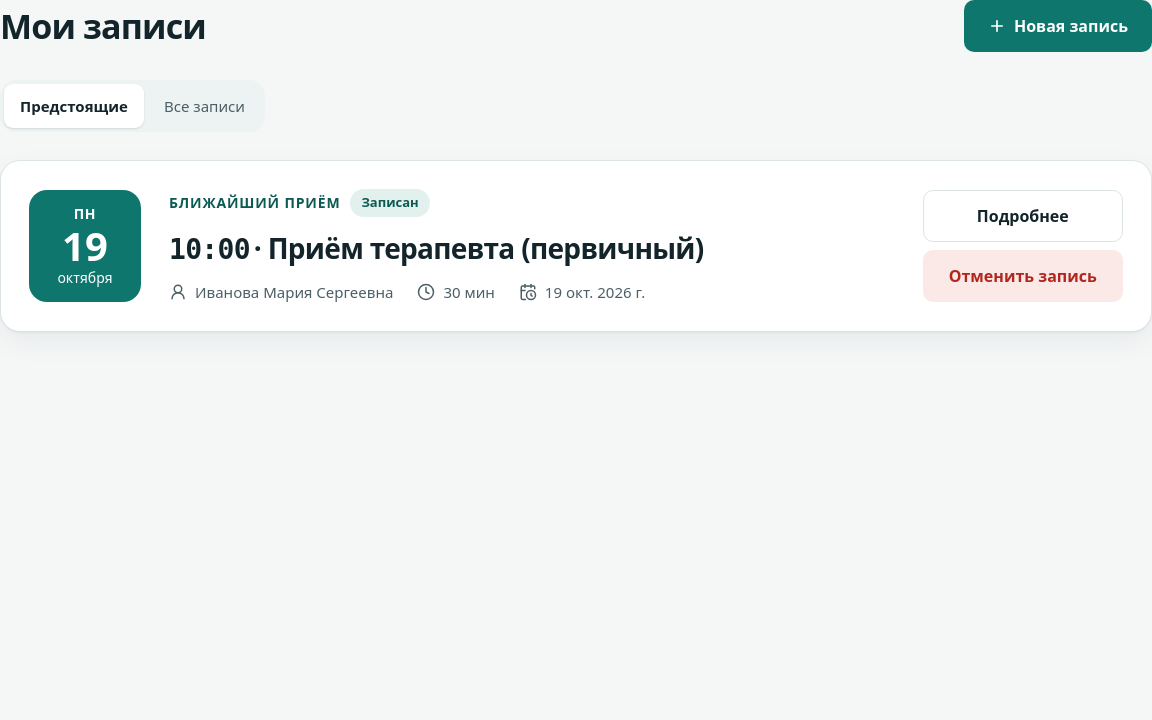
Test: AppointmentList › should keep the appointment and the focus on its button when the dialog is dismissed
Click the button with aria-label "Отменить запись:".
click(1023, 276)  # box [923,250,1123,302]
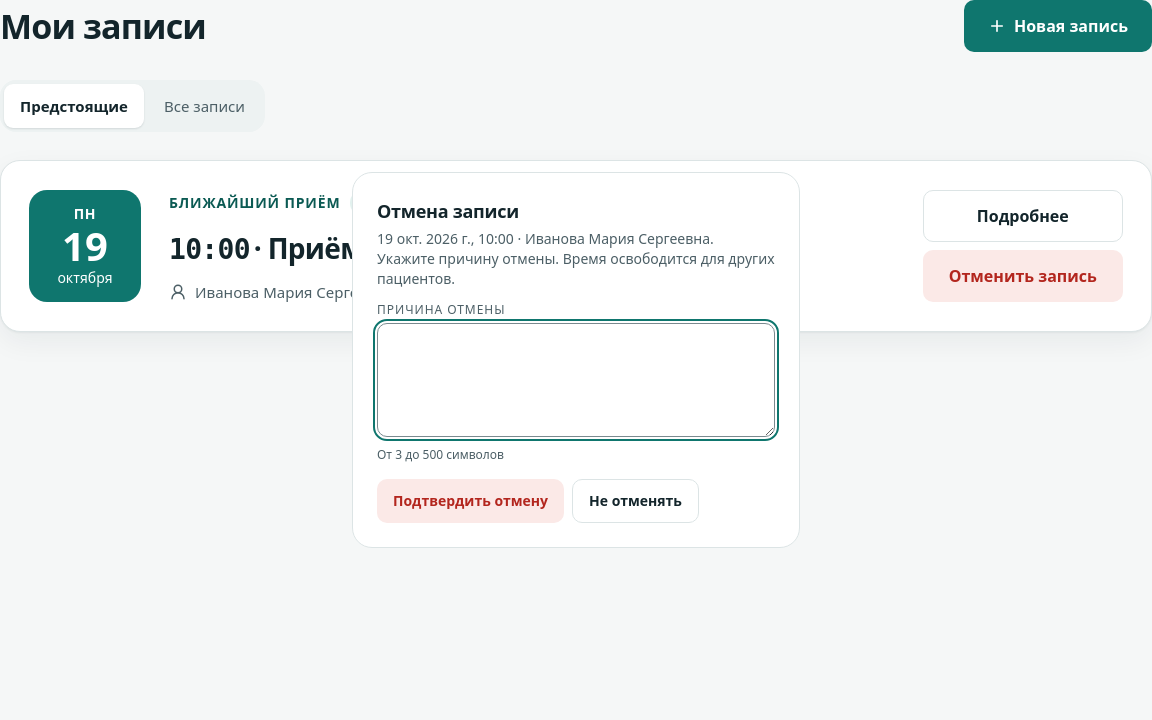
Click the button "Не отменять".
click(635, 501)  # box [572,479,699,523]
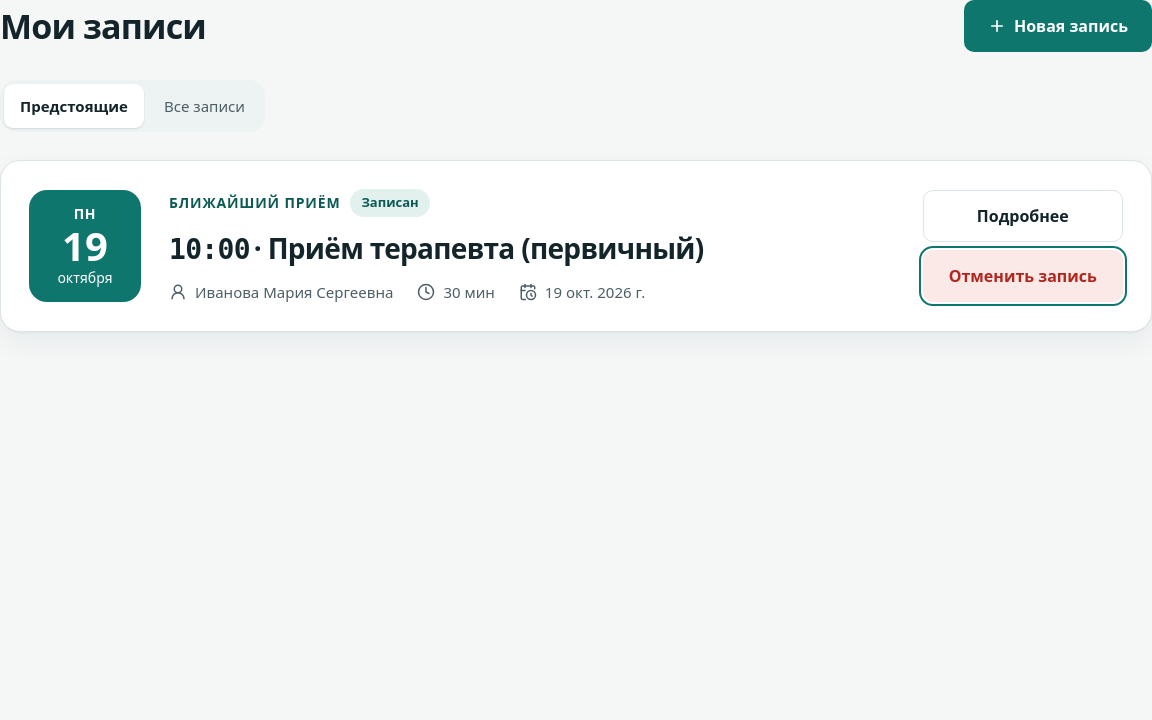
Expected: the dialog is gone
